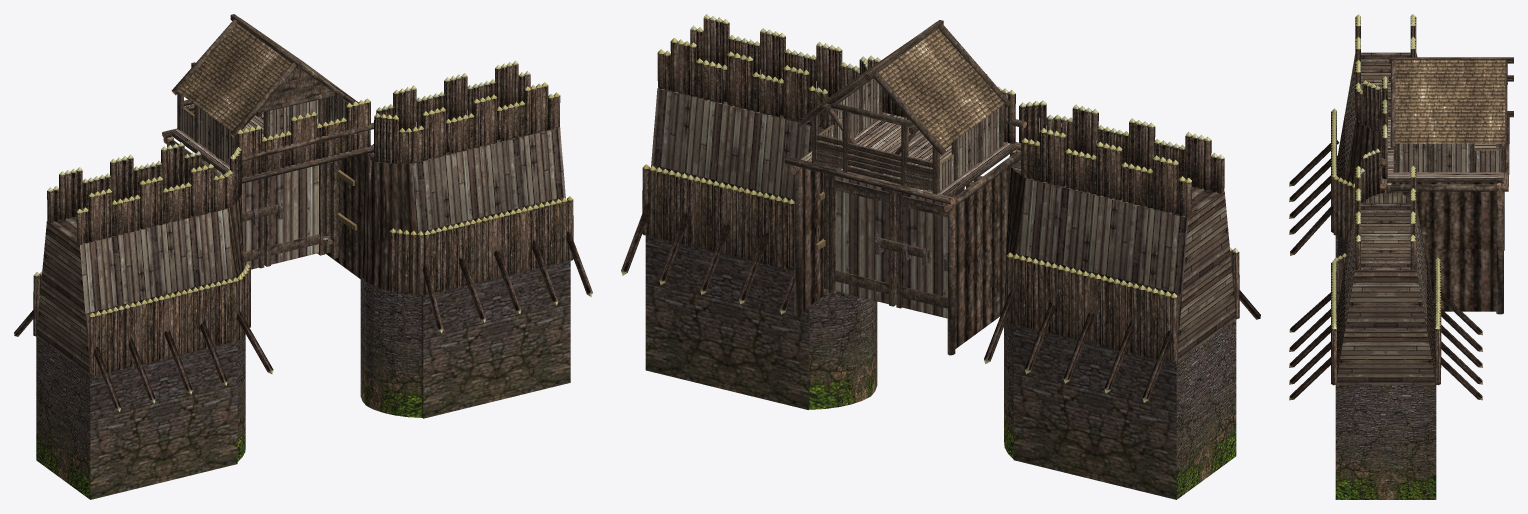
File: s_germans_wooden_wall_gate.glb
3 views of the same model, side by side, from view 1: azimuth 30°, elevation 25°; view 2: azimuth 150°, elevation 25°; view 3: azimuth 270°, elevation 25° (orthographic). The views are drawn at different scales.
Visible parts, largest first — view 1: s_germans_wooden_wall_gate_part1, s_germans_wooden_wall_gate_part0, s_germans_wooden_wall_gate_part2; view 2: s_germans_wooden_wall_gate_part1, s_germans_wooden_wall_gate_part0, s_germans_wooden_wall_gate_part2; view 3: s_germans_wooden_wall_gate_part1, s_germans_wooden_wall_gate_part0, s_germans_wooden_wall_gate_part2.
Boxes of the visible parts, bbox=[...] form: s_germans_wooden_wall_gate_part1: bbox=[14, 60, 592, 499]; s_germans_wooden_wall_gate_part0: bbox=[162, 14, 374, 279]; s_germans_wooden_wall_gate_part2: bbox=[177, 18, 358, 131]; s_germans_wooden_wall_gate_part1: bbox=[621, 14, 1260, 499]; s_germans_wooden_wall_gate_part0: bbox=[784, 20, 1026, 355]; s_germans_wooden_wall_gate_part2: bbox=[800, 28, 1004, 148]; s_germans_wooden_wall_gate_part1: bbox=[1289, 14, 1482, 499]; s_germans_wooden_wall_gate_part0: bbox=[1379, 57, 1513, 314]; s_germans_wooden_wall_gate_part2: bbox=[1395, 59, 1504, 143].
Size of the model in its own units: 9.52 by 6.72 by 4.12.
Materials: 2 (2 with a texture image).
